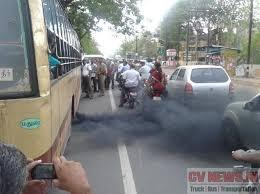smoke: (72, 88, 239, 158)
